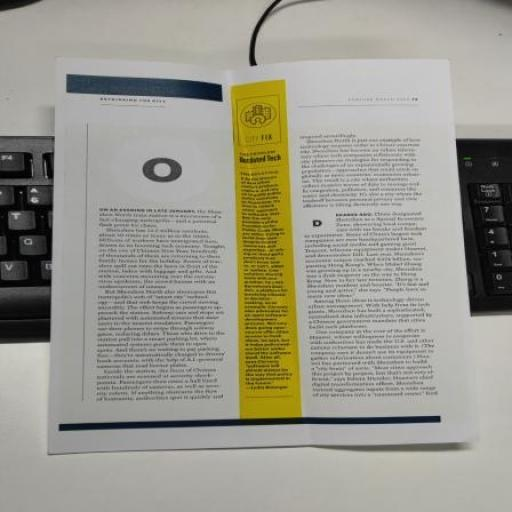paper: (23, 36, 490, 500)
